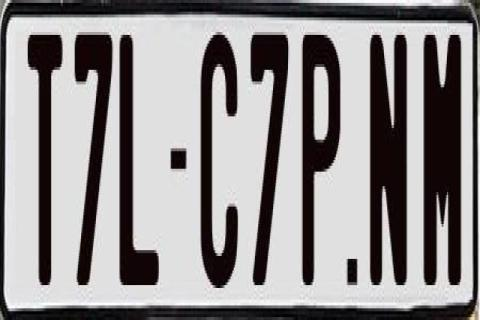0: (75, 29, 116, 297), (250, 35, 292, 291)
C: (197, 32, 240, 296)
L: (120, 32, 164, 282)
M: (420, 35, 462, 303)
N: (370, 32, 410, 282)
P: (300, 35, 346, 294)
T: (27, 35, 65, 285)
